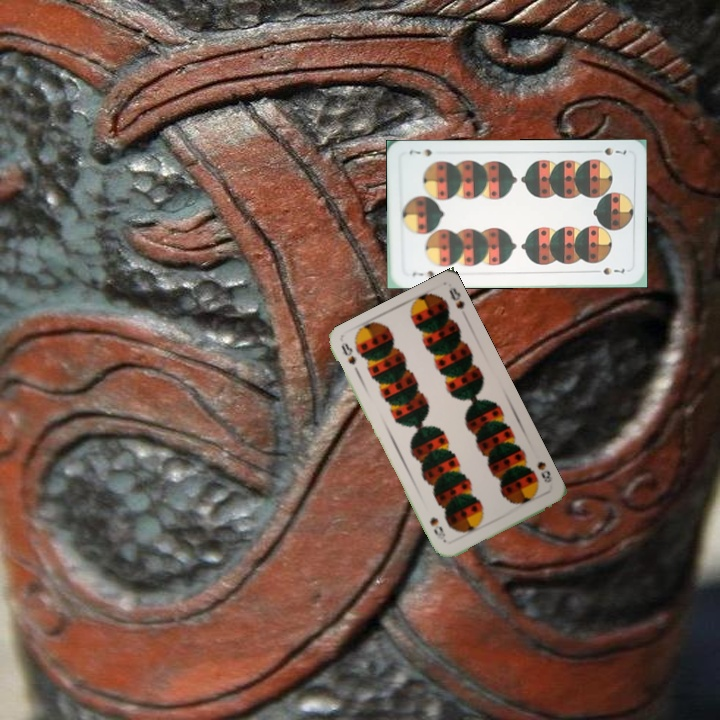S7: (590, 144, 629, 158), (408, 267, 437, 280)
S8: (337, 339, 362, 377), (533, 457, 555, 485)
